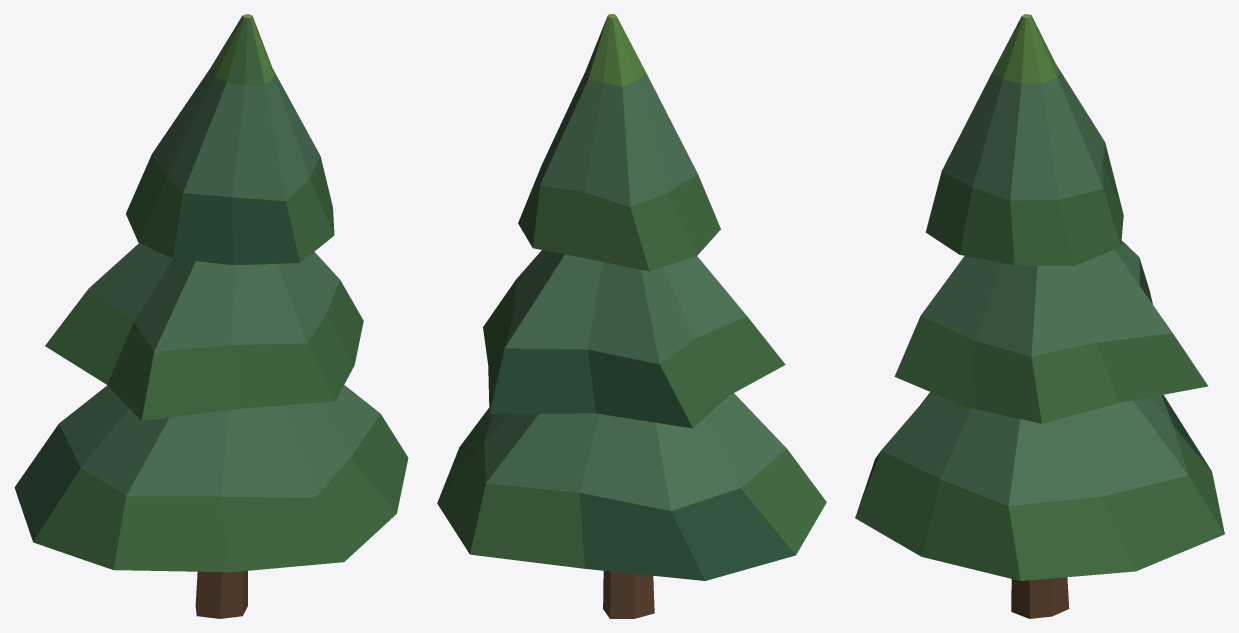
File: Tree_Pine_01.fbx
The picture shows the model from 3 angles, left to right: view 1: azimuth 30°, elevation 25°; view 2: azimuth 150°, elevation 25°; view 3: azimuth 270°, elevation 25°; orthographic projection. The views are drawn at different scales.
Visible parts, largest first — view 1: Tree_Pine_01; view 2: Tree_Pine_01; view 3: Tree_Pine_01.
Boxes of the visible parts, x1,y1,x2,y2 form: Tree_Pine_01: [14, 14, 408, 618]; Tree_Pine_01: [437, 14, 826, 618]; Tree_Pine_01: [855, 14, 1224, 618].
Size of the model in its own units: 656 by 1035 by 576.
Materials: 1 (1 with a texture image).
